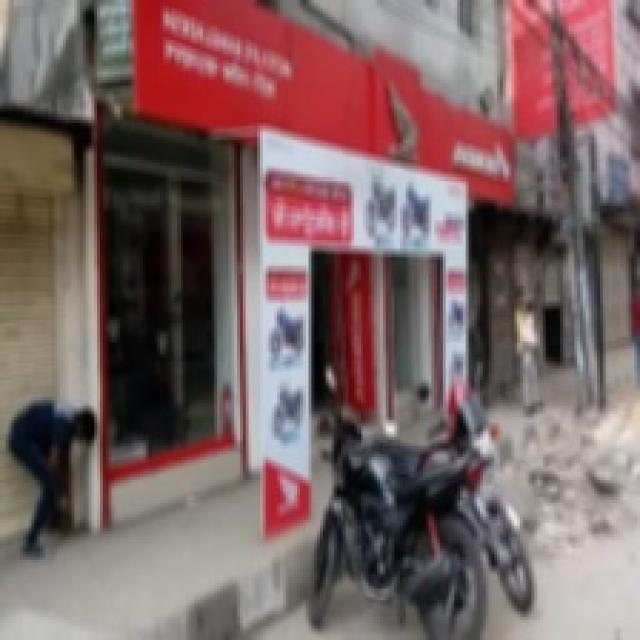bike: (321, 388, 484, 629), (429, 361, 543, 612)
